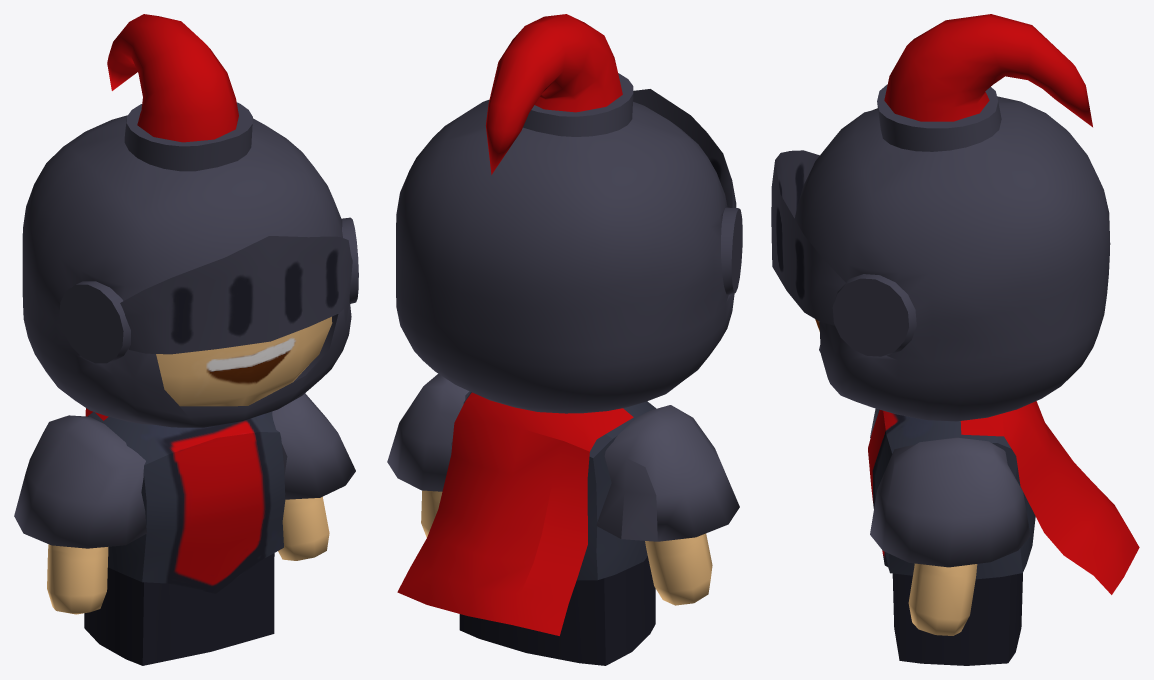
The model's file is Knight 1.fbx.
3 views of the same model, side by side, from view 1: azimuth 30°, elevation 25°; view 2: azimuth 150°, elevation 25°; view 3: azimuth 270°, elevation 25° (orthographic). The views are drawn at different scales.
Parts seen in each view (by area): view 1: Skin, Base.001; view 2: Skin, Base.001; view 3: Skin, Base.001.
Part boxes in pixels (x1=…): Skin: x1=14, y1=14, x2=358, y2=665; Base.001: x1=47, y1=316, x2=332, y2=614; Skin: x1=387, y1=14, x2=742, y2=665; Base.001: x1=421, y1=490, x2=712, y2=605; Skin: x1=771, y1=14, x2=1139, y2=665; Base.001: x1=815, y1=319, x2=977, y2=635.
Size of the model in its own units: 43.22 by 76.84 by 41.99.
Materials: 1 (1 with a texture image).
